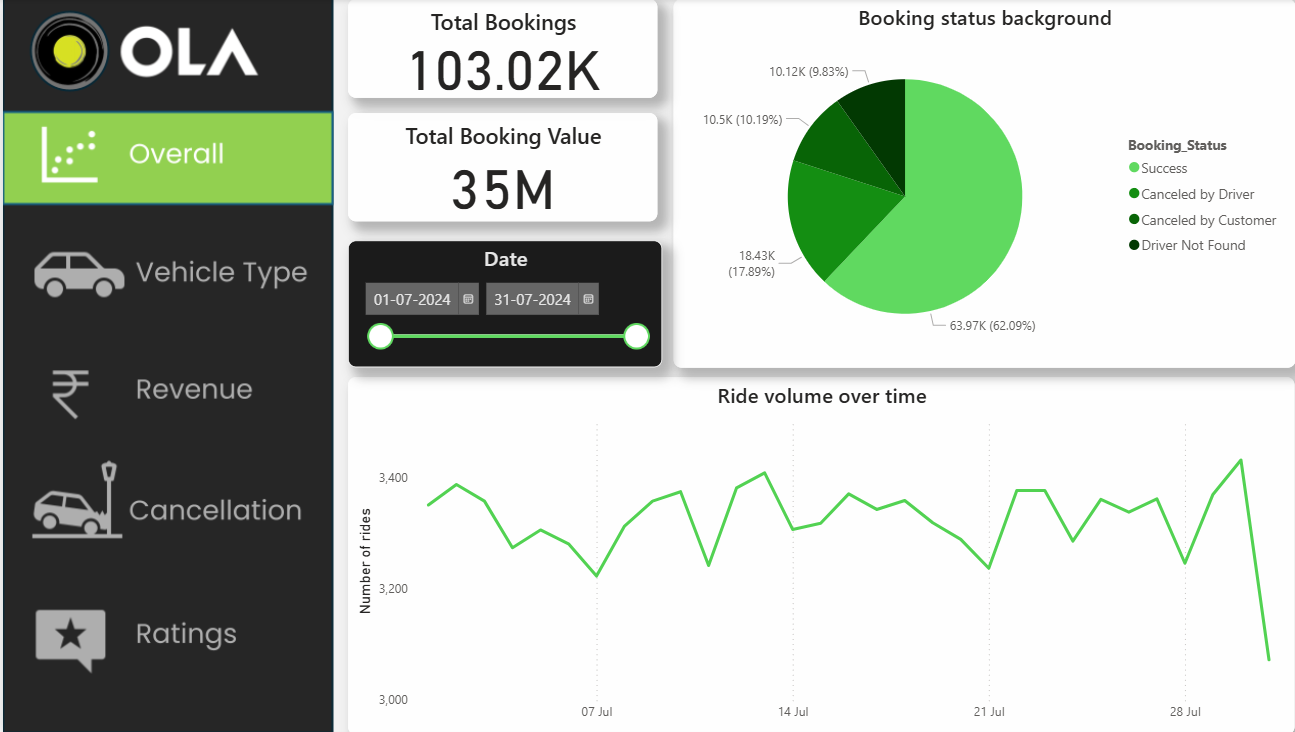

This screenshot's page, from the dashboard's own definition file:
{"tool":"powerbi","page":{"name":"Overall","canvas":[1280,720],"ordinal":0},"visuals":[{"type":"actionButton","box":[0,218.6,322.8,98.3],"z":0},{"type":"actionButton","box":[0,333.1,322.8,98.3],"z":1000},{"type":"actionButton","box":[0,446.1,322.8,98.3],"z":2000},{"type":"actionButton","box":[0,572.3,322.8,98.3],"z":3000},{"type":"lineChart","title":"Ride volume over time","fields":{"Y":["CountNonNull(Bookings-100000-Rows xlsx - July.Booking_ID)"],"Category":["Bookings-100000-Rows xlsx - July.Date"]},"box":[337.7,370.2,926.3,350.1],"z":4000},{"type":"pieChart","title":"Booking status background","fields":{"Category":["Bookings-100000-Rows xlsx - July.Booking_Status"],"Y":["CountNonNull(Bookings-100000-Rows xlsx - July.Booking_ID)"]},"box":[655.7,0,608.7,360.4],"z":5000},{"type":"slicer","title":"Date","fields":{"Values":["Bookings-100000-Rows xlsx - July.Date"]},"box":[337.7,236.2,307.4,124.2],"z":6000},{"type":"card","title":"Total Bookings","fields":{"Values":["Count(Bookings-100000-Rows xlsx - July.Booking_ID)"]},"box":[337.7,0,302.8,96.9],"z":7000},{"type":"card","title":"Total Booking Value","fields":{"Values":["Sum(Bookings-100000-Rows xlsx - July.Booking_Value)"]},"box":[337.7,112.1,302.8,106],"z":8000}]}

Visuals, with their boxes in screenshot pixels (x1, y1, x2, y2), scaled from the page's 1280x720 canvas onto the 1295x732 screenshot:
actionButton: box(0, 222, 327, 322)
actionButton: box(0, 339, 327, 439)
actionButton: box(0, 454, 327, 553)
actionButton: box(0, 582, 327, 682)
"Ride volume over time" lineChart: box(342, 376, 1279, 731)
"Booking status background" pieChart: box(663, 0, 1279, 366)
"Date" slicer: box(342, 240, 653, 366)
"Total Bookings" card: box(342, 0, 648, 99)
"Total Booking Value" card: box(342, 114, 648, 222)
